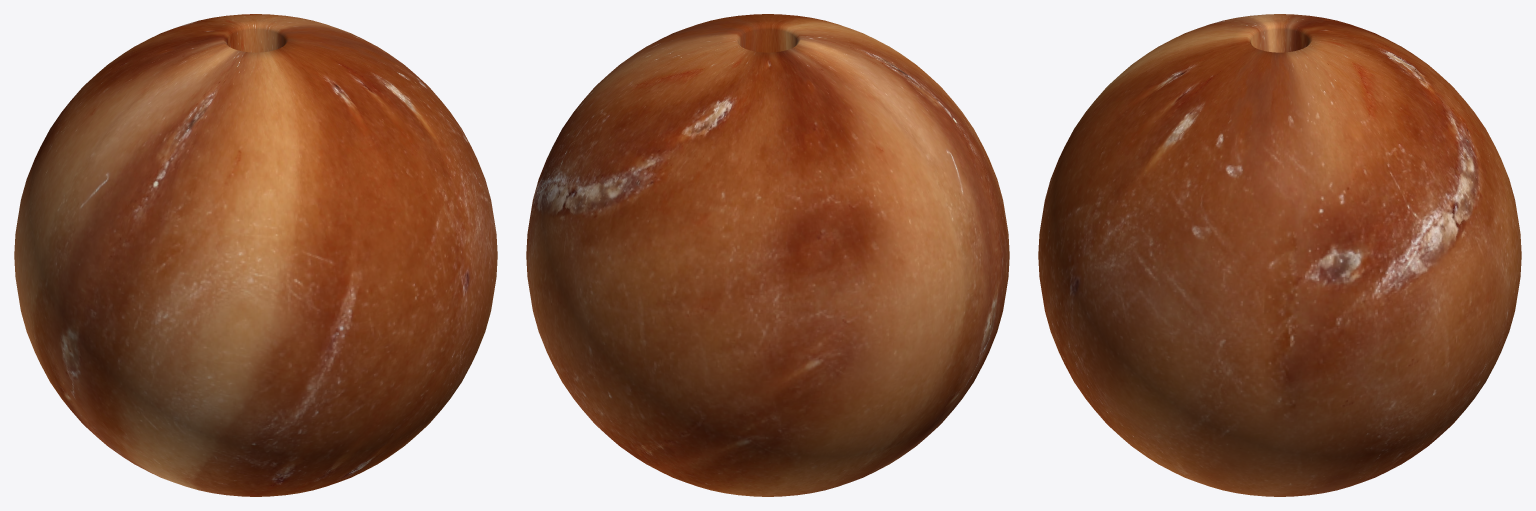
The picture shows the model from 3 angles, left to right: view 1: azimuth 30°, elevation 25°; view 2: azimuth 150°, elevation 25°; view 3: azimuth 270°, elevation 25°; orthographic projection.
Parts seen in each view (by area): view 1: Sphere.001; view 2: Sphere.001; view 3: Sphere.001.
Part boxes in pixels (x1,y1,x2,y2): Sphere.001: [14, 14, 497, 496]; Sphere.001: [526, 14, 1009, 496]; Sphere.001: [1038, 14, 1521, 496].
Size of the model in its own units: 1 by 0.9894 by 1.
Materials: 1 (1 with a texture image).
